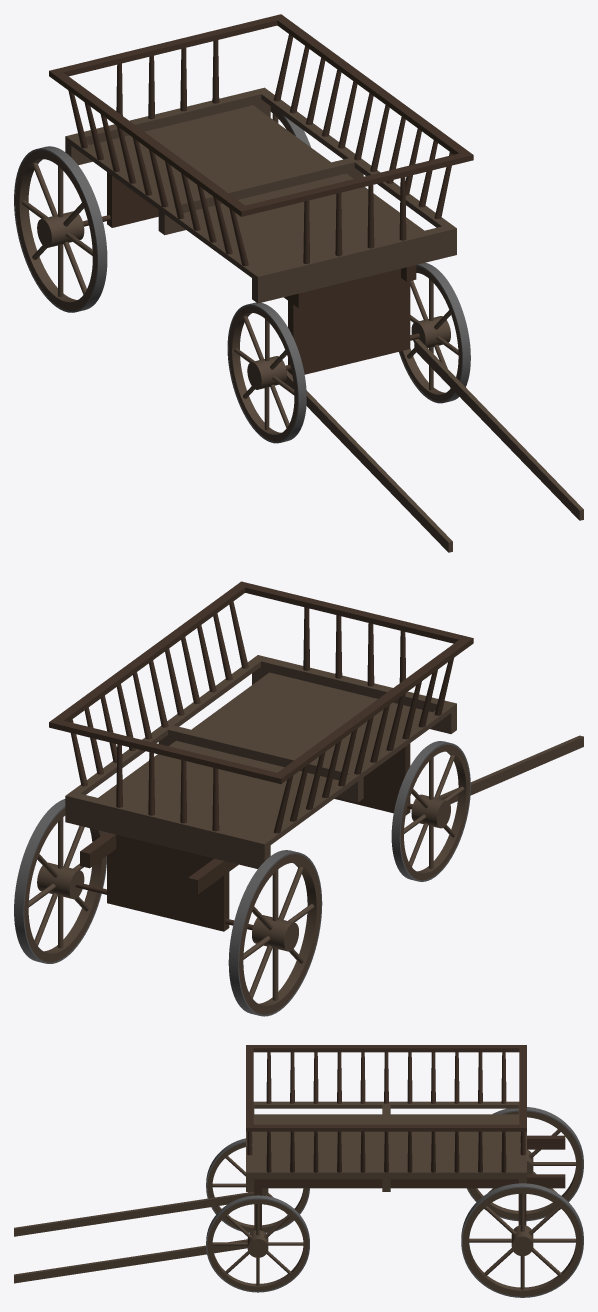
3 renders of one model, top to bottom at view 1: azimuth 30°, elevation 25°; view 2: azimuth 150°, elevation 25°; view 3: azimuth 270°, elevation 25°, orthographic. The views are drawn at different scales.
Parts seen in each view (by area): view 1: floor, panel, rim.002, end.001, rim, rim.001, cross, end.002, shaft.001, top_side.001, top_side.002, shaft (+8 smaller); view 2: floor, panel.001, rim.002, rim.003, end.002, rim, end.001, cross, top_side.001, top_side.002, top_end.002, top_end.001 (+9 smaller); view 3: floor, rim.003, rim.001, runner.002, shaft, shaft.001, top_side.001, top_side.002, rim.002, edge.001, edge.002, rim (+10 smaller).
Part boxes in pixels (x1,y1,x2,y2): floor: (90,105,439,290); panel: (288,268,410,374); rim.002: (15,150,96,310); end.001: (252,224,456,303); rim: (228,306,297,441); rim.001: (400,266,461,401); cross: (158,157,363,235); end.002: (65,87,270,165); shaft.001: (414,339,583,520); top_side.001: (54,72,250,216); top_side.002: (277,18,473,162); shaft: (285,370,452,552); floor: (83,672,432,857); panel.001: (107,834,229,931); rim.002: (239,854,321,1014); rim.003: (24,808,106,962); end.002: (65,791,270,868); rim: (400,744,469,880); end.001: (252,655,456,733); cross: (158,724,363,802); top_side.001: (272,640,468,783); top_side.002: (49,585,245,729); top_end.002: (49,718,286,783); top_end.001: (236,581,473,646); floor: (254,1114,518,1179); rim.003: (462,1188,582,1296); rim.001: (207,1199,308,1291); runner.002: (254,1174,565,1188); shaft: (14,1192,254,1236); shaft.001: (14,1239,247,1283); top_side.001: (253,1045,519,1052); top_side.002: (253,1124,519,1131); rim.002: (468,1111,582,1219); edge.001: (254,1101,518,1108); edge.002: (254,1169,518,1176); rim: (207,1142,308,1232).
Size of the model in its own units: 0.732 by 0.6795 by 2.
